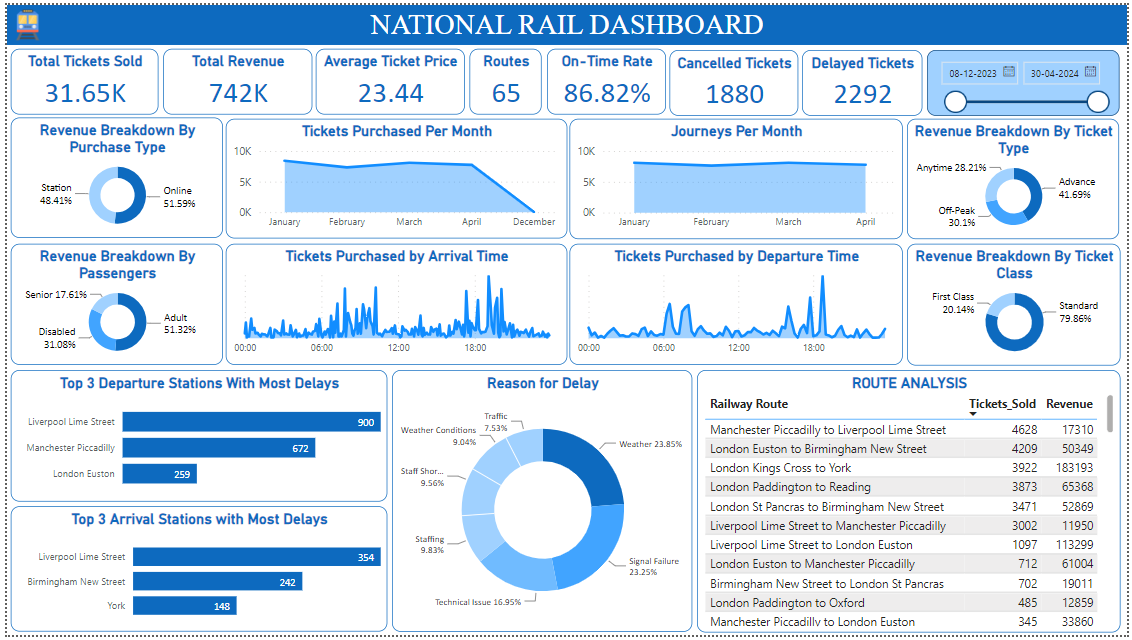

What the dashboard file says about the page in this screenshot:
{"tool":"powerbi","page":{"name":"Page 1","canvas":[1280,720],"ordinal":0},"visuals":[{"type":"shape","box":[0,0,1280,45.7],"z":0},{"type":"card","title":"Total Tickets Sold","fields":{"Values":["Count(railway.Transaction ID)"]},"box":[4.1,50.6,168.6,75],"z":2000},{"type":"card","title":"Average Ticket Price","fields":{"Values":["Avg(railway.Price)"]},"box":[353.3,50.4,170,75.3],"z":3000},{"type":"card","title":"Total Revenue","fields":{"Values":["Sum(railway.Price)"]},"box":[178,50.4,170,75.3],"z":4000},{"type":"card","title":"Cancelled Tickets","fields":{"Values":["railway.Cancelled Trains"]},"box":[757,51,147,75],"z":5000},{"type":"card","title":"Routes","fields":{"Values":["Count(railway.Route)"]},"box":[529.2,50,82.5,75],"z":6000},{"type":"card","title":"Delayed Tickets","fields":{"Values":["railway.Delayed Trains"]},"box":[909.2,50.8,137.5,75],"z":7000},{"type":"areaChart","title":"Tickets Purchased Per Month","fields":{"Category":["railway.Date of Purchase.Variation.Date Hierarchy.Year","railway.Date of Purchase.Variation.Date Hierarchy.Quarter","railway.Date of Purchase.Variation.Date Hierarchy.Month","railway.Date of Purchase.Variation.Date Hierarchy.Day"],"Y":["CountNonNull(railway.Transaction ID)"]},"box":[250,130,390,137.1],"z":8000},{"type":"areaChart","title":"Journeys Per Month","fields":{"Category":["railway.Date of Journey.Variation.Date Hierarchy.Year","railway.Date of Journey.Variation.Date Hierarchy.Quarter","railway.Date of Journey.Variation.Date Hierarchy.Month","railway.Date of Journey.Variation.Date Hierarchy.Day"],"Y":["CountNonNull(railway.Transaction ID)"]},"box":[643.3,130,380.8,137.5],"z":9000},{"type":"stackedAreaChart","title":"Tickets Purchased by Departure Time","fields":{"Y":["Count(railway.Transaction ID)"],"Category":["railway.Departure Time"]},"box":[643.3,273.3,380.8,138.3],"z":10000},{"type":"stackedAreaChart","title":"Tickets Purchased by  Arrival Time","fields":{"Y":["Count(railway.Transaction ID)"],"Category":["railway.Arrival Time"]},"box":[250,272.9,390,138.2],"z":11000},{"type":"donutChart","title":"Revenue Breakdown By Ticket Type","fields":{"Y":["Sum(railway.Price)"],"Category":["railway.Ticket Type"]},"box":[1029.2,130,242.5,137.5],"z":12000},{"type":"donutChart","title":"Revenue Breakdown By Purchase Type","fields":{"Y":["Sum(railway.Price)"],"Category":["railway.Purchase Type"]},"box":[3.8,128.8,242.5,137.5],"z":13000},{"type":"tableEx","title":"ROUTE ANALYSIS","fields":{"Values":["railway.Route","railway.Tickets_Sold","railway.Revenue"]},"box":[788.3,417.5,484.2,300],"z":14000},{"type":"donutChart","title":"Revenue Breakdown By Ticket Class","fields":{"Y":["Sum(railway.Price)"],"Category":["railway.Ticket Class"]},"box":[1028.3,272.5,244.2,139.2],"z":15000},{"type":"donutChart","title":"Reason for Delay","fields":{"Category":["railway.Reason for Delay"],"Y":["CountNonNull(railway.Transaction ID)"]},"box":[440,417.5,343.3,299.2],"z":16000},{"type":"donutChart","title":"Revenue Breakdown By Passengers","fields":{"Y":["Sum(railway.Price)"],"Category":["railway.Railcard"]},"box":[4,272.7,242.7,138.7],"z":18000},{"type":"clusteredBarChart","title":"Top 3 Departure Stations With Most Delays","fields":{"Category":["railway.Departure Station"],"Y":["railway.Delayed Trains"]},"box":[3.6,416.4,430,150],"z":18001},{"type":"clusteredBarChart","title":"Top 3 Arrival Stations with Most Delays","fields":{"Y":["railway.Delayed Trains"],"Category":["railway.Arrival Destination"]},"box":[4.3,572.9,430,143.6],"z":18002},{"type":"card","title":"On-Time Rate","fields":{"Values":["railway.OnTimeRate"]},"box":[617,50,136,75],"z":18003},{"type":"slicer","fields":{"Values":["railway.Date of Purchase"]},"box":[1051.7,50.8,220,75],"z":18004},{"type":"image","box":[0,0,47,45.5],"z":18005}]}

Visuals, with their boxes in screenshot pixels (x1, y1, x2, y2), scaled from the page's 1280x720 canvas onto the 1132x640 screenshot:
shape: 0 0 1131 41
"Total Tickets Sold" card: 4 45 153 112
"Average Ticket Price" card: 312 45 463 112
"Total Revenue" card: 157 45 308 112
"Cancelled Tickets" card: 669 45 799 112
"Routes" card: 468 44 541 111
"Delayed Tickets" card: 804 45 926 112
"Tickets Purchased Per Month" areaChart: 221 116 566 237
"Journeys Per Month" areaChart: 569 116 906 238
"Tickets Purchased by Departure Time" stackedAreaChart: 569 243 906 366
"Tickets Purchased by  Arrival Time" stackedAreaChart: 221 243 566 365
"Revenue Breakdown By Ticket Type" donutChart: 910 116 1125 238
"Revenue Breakdown By Purchase Type" donutChart: 3 114 218 237
"ROUTE ANALYSIS" tableEx: 697 371 1125 638
"Revenue Breakdown By Ticket Class" donutChart: 909 242 1125 366
"Reason for Delay" donutChart: 389 371 693 637
"Revenue Breakdown By Passengers" donutChart: 4 242 218 366
"Top 3 Departure Stations With Most Delays" clusteredBarChart: 3 370 383 503
"Top 3 Arrival Stations with Most Delays" clusteredBarChart: 4 509 384 637
"On-Time Rate" card: 546 44 666 111
slicer - railway.Date of Purchase: 930 45 1125 112
image: 0 0 42 40
